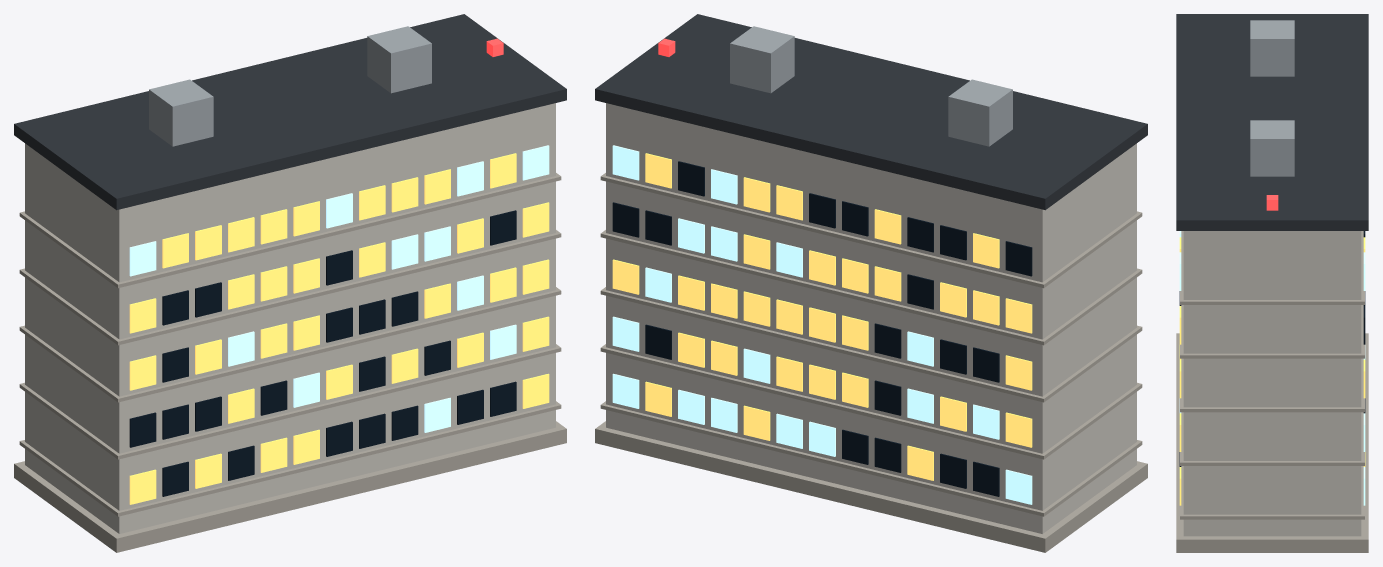
The model's file is sk_slab.glb.
3 views of the same model, side by side, from view 1: azimuth 30°, elevation 25°; view 2: azimuth 150°, elevation 25°; view 3: azimuth 270°, elevation 25° (orthographic). The views are drawn at different scales.
Visible parts, largest first — view 1: slab_Wall, slab_Roof, slab_Trim, slab_GlassLit, slab_GlassDark, slab_GlassCool, slab_Metal; view 2: slab_Wall, slab_Roof, slab_Trim, slab_GlassLit, slab_GlassDark, slab_GlassCool, slab_Metal; view 3: slab_Wall, slab_Roof, slab_Trim, slab_Metal, slab_GlassLit, slab_GlassCool.
Boxes of the visible parts, bbox=[...] form: slab_Wall: bbox=[25, 103, 555, 533]; slab_Roof: bbox=[14, 14, 566, 210]; slab_Trim: bbox=[14, 173, 566, 552]; slab_GlassLit: bbox=[129, 153, 549, 504]; slab_GlassDark: bbox=[129, 210, 516, 496]; slab_GlassCool: bbox=[129, 145, 549, 432]; slab_Metal: bbox=[149, 26, 431, 146]; slab_Wall: bbox=[606, 103, 1136, 533]; slab_Roof: bbox=[595, 14, 1147, 210]; slab_Trim: bbox=[595, 173, 1147, 552]; slab_GlassLit: bbox=[612, 153, 1032, 480]; slab_GlassDark: bbox=[612, 161, 1032, 496]; slab_GlassCool: bbox=[612, 145, 1032, 504]; slab_Metal: bbox=[730, 26, 1012, 146]; slab_Wall: bbox=[1183, 231, 1361, 536]; slab_Roof: bbox=[1176, 14, 1368, 230]; slab_Trim: bbox=[1176, 231, 1368, 552]; slab_Metal: bbox=[1250, 20, 1294, 176]; slab_GlassLit: bbox=[1179, 237, 1365, 505]; slab_GlassCool: bbox=[1179, 231, 1365, 505].
Size of the model in its own units: 33 by 27.6 by 13.
